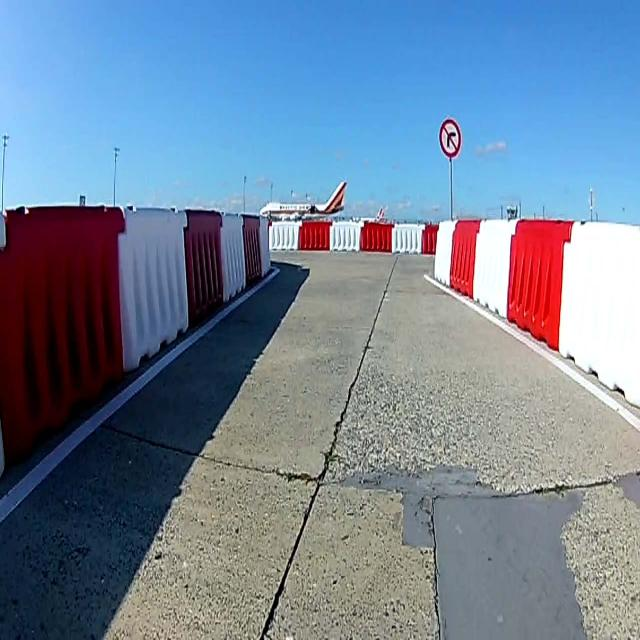sagadonulmez: (440, 120, 461, 156)
